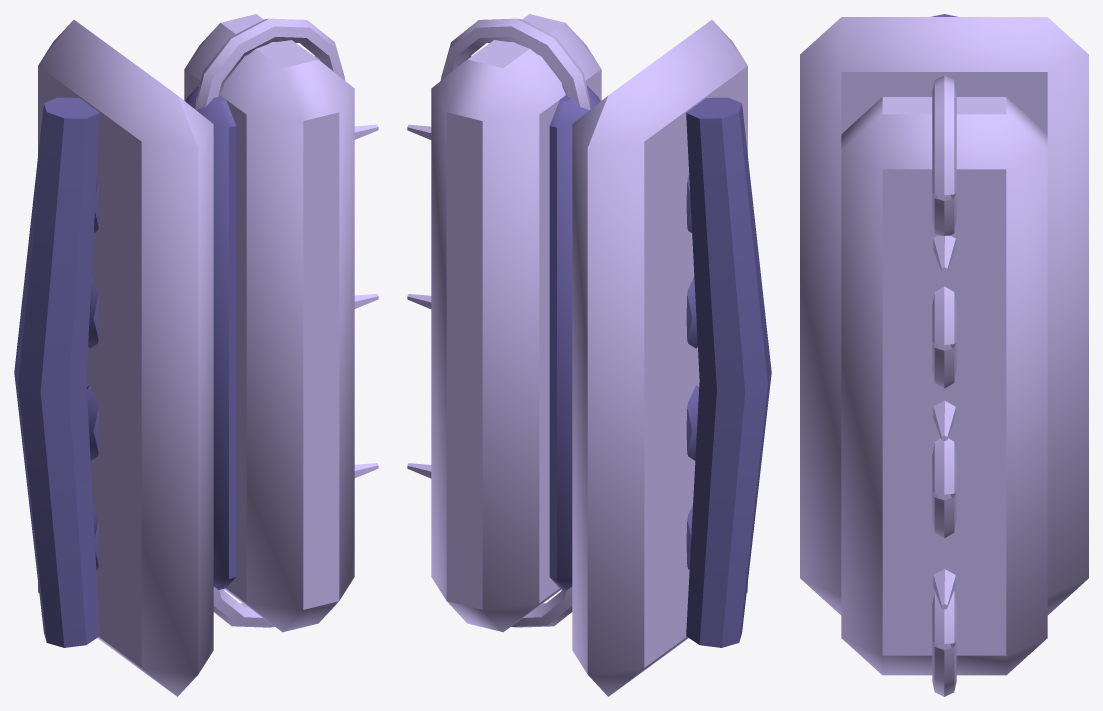
The model's file is fa_fists_of_the_falling_sky.glb.
3 renders of one model, left to right at view 1: azimuth 30°, elevation 25°; view 2: azimuth 150°, elevation 25°; view 3: azimuth 270°, elevation 25°, orthographic.
Visible parts, largest first — view 1: fa_fists_of_the_falling_sky; view 2: fa_fists_of_the_falling_sky; view 3: fa_fists_of_the_falling_sky.
Boxes of the visible parts, <box> form: fa_fists_of_the_falling_sky: <box>14,14,378,696</box>; fa_fists_of_the_falling_sky: <box>407,14,771,696</box>; fa_fists_of_the_falling_sky: <box>800,14,1088,696</box>.
Bounding box in the file's own units: 0.1 × 0.162 × 0.07.
